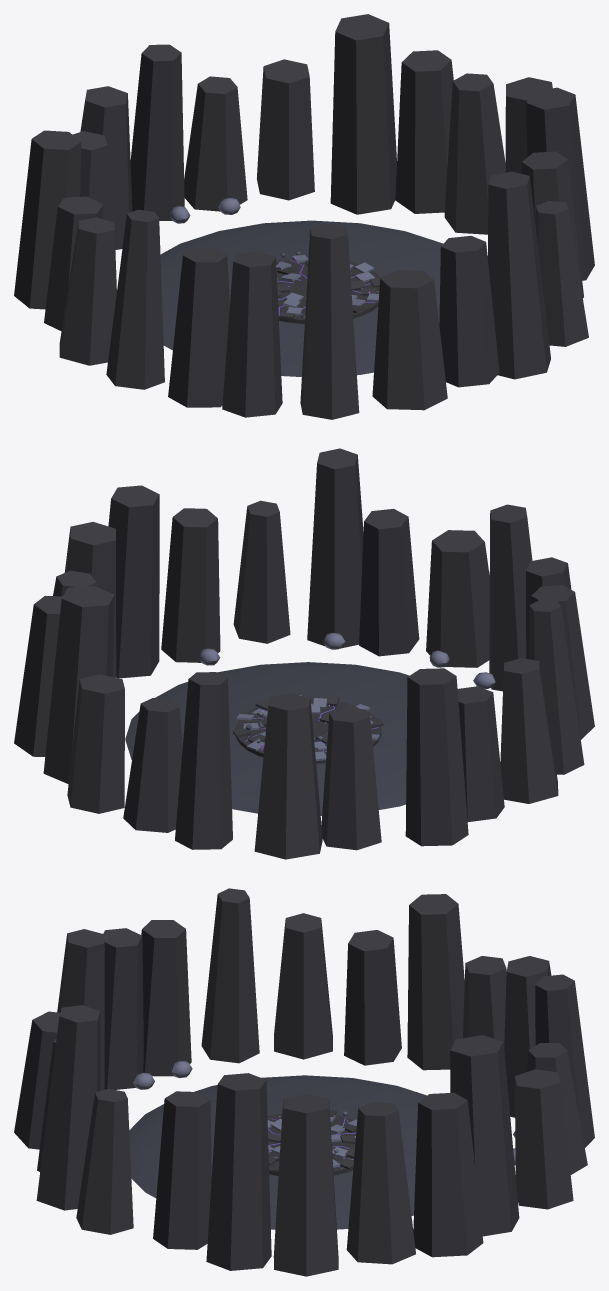
The model's file is riftling.glb.
The picture shows the model from 3 angles, top to bottom: view 1: azimuth 30°, elevation 25°; view 2: azimuth 150°, elevation 25°; view 3: azimuth 270°, elevation 25°; orthographic projection.
Visible parts, largest first — view 1: RiftlingGround; view 2: RiftlingGround; view 3: RiftlingGround.
Boxes of the visible parts, x1,y1,x2,y2 form: RiftlingGround: [14, 14, 594, 419]; RiftlingGround: [14, 448, 594, 859]; RiftlingGround: [14, 888, 594, 1276].
Size of the model in its own units: 47.73 by 16.52 by 47.22.
1 material, 1 textured.
